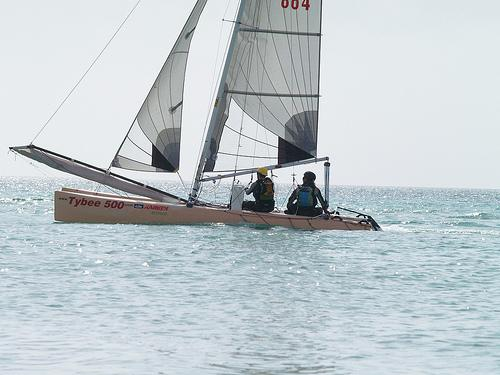Ship: (9, 1, 385, 233)
